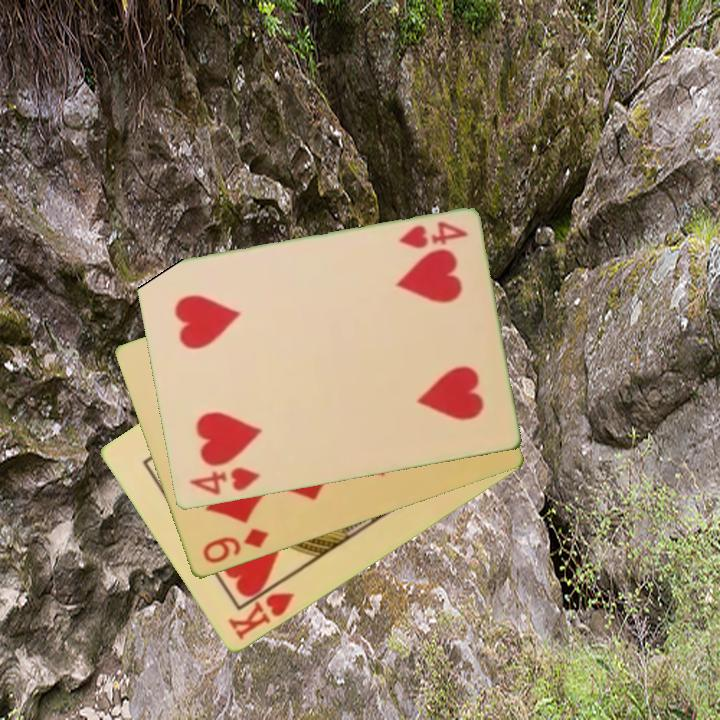4h: (186, 464, 263, 499), (394, 218, 470, 252)
9d: (199, 525, 271, 567)
Kh: (224, 576, 297, 644)
